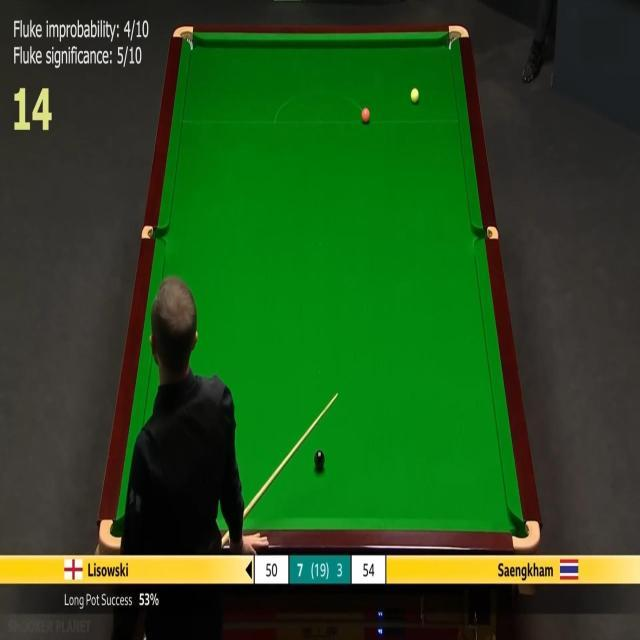Ball: (314, 450, 325, 470), (362, 107, 370, 123), (411, 88, 418, 104)
